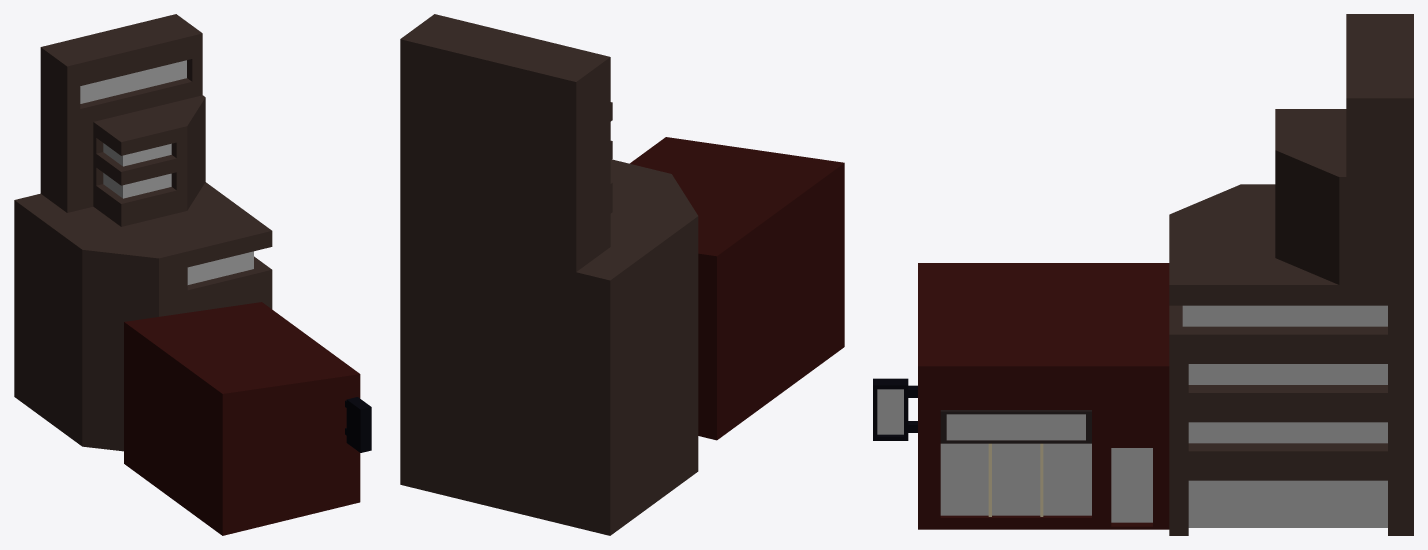
Rendered from SideBuildings1-6.fbx.
The picture shows the model from 3 angles, left to right: view 1: azimuth 30°, elevation 25°; view 2: azimuth 150°, elevation 25°; view 3: azimuth 270°, elevation 25°; orthographic projection. The views are drawn at different scales.
Visible parts, largest first — view 1: SideBuilding1_6; view 2: SideBuilding1_6; view 3: SideBuilding1_6.
Boxes of the visible parts, x1=… form: SideBuilding1_6: x1=14, y1=14, x2=371, y2=535; SideBuilding1_6: x1=400, y1=14, x2=844, y2=535; SideBuilding1_6: x1=873, y1=14, x2=1413, y2=535.
Bounding box in the file's own units: 7.4 × 15 × 16.8.
Materials: 2 (1 with a texture image).
